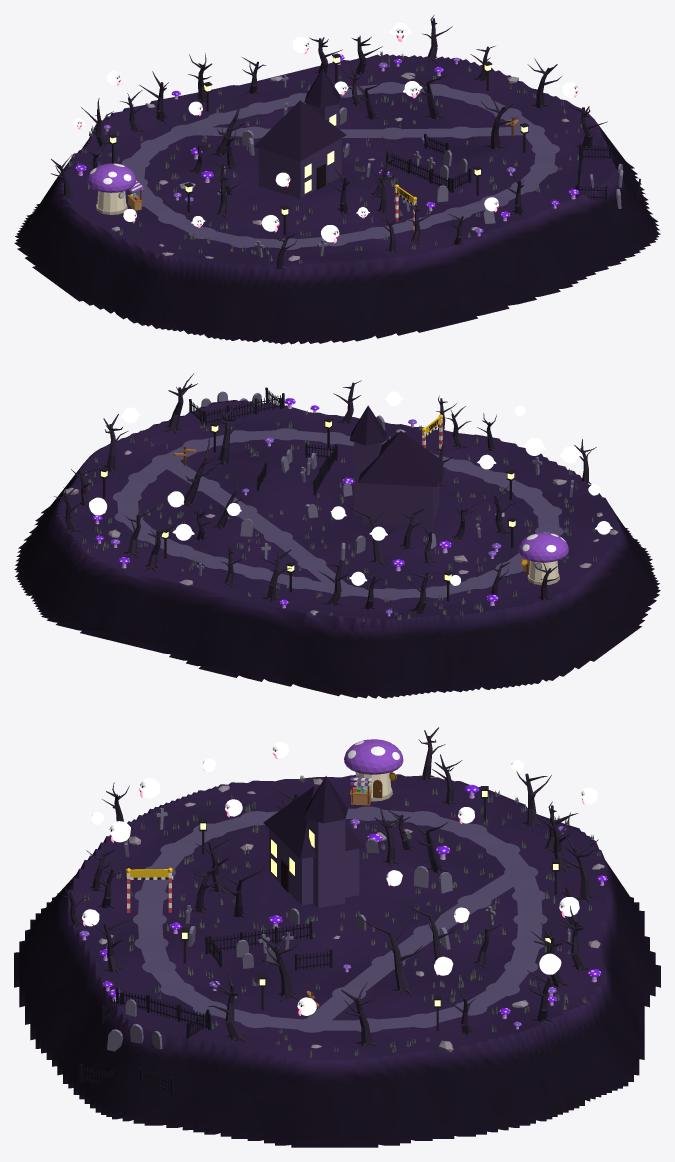
File: board-underworld.glb
The picture shows the model from 3 angles, top to bottom: view 1: azimuth 30°, elevation 25°; view 2: azimuth 150°, elevation 25°; view 3: azimuth 270°, elevation 25°; orthographic projection. The views are drawn at different scales.
Parts seen in each view (by area): view 1: Terrain, Paths, House, Shop s20; view 2: Terrain, Paths, House, Shop s20, tree_dead_4, tree_dead_7; view 3: Terrain, Paths, House, Shop s20, tree_dead_7, Start start_gate, tree_dead_4, tree_dead_25, tree_dead_26, tree_dead_21.
Boxes of the visible parts, x1,y1,x2,y2 form: Terrain: (14, 54, 660, 344); Paths: (121, 82, 559, 249); House: (254, 68, 346, 198); Shop s20: (87, 163, 144, 214); Terrain: (14, 400, 660, 698); Paths: (113, 428, 563, 600); House: (349, 405, 443, 526); Shop s20: (518, 532, 568, 585); tree_dead_4: (214, 403, 244, 467); tree_dead_7: (183, 433, 215, 507); Terrain: (14, 774, 660, 1147); Paths: (132, 806, 547, 1032); House: (263, 776, 364, 908); Shop s20: (344, 739, 403, 805); tree_dead_7: (362, 919, 425, 995); Start start_gate: (125, 867, 173, 912); tree_dead_4: (259, 930, 301, 1001); tree_dead_25: (207, 968, 246, 1042); tree_dead_26: (341, 982, 380, 1048); tree_dead_21: (557, 836, 598, 902).
Bounding box in the file's own units: 42.64 × 11.95 × 35.7.
8 materials, 1 textured.
